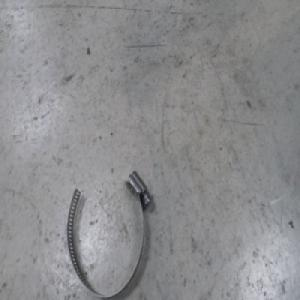AdjustableClamp: (65, 167, 153, 297)
